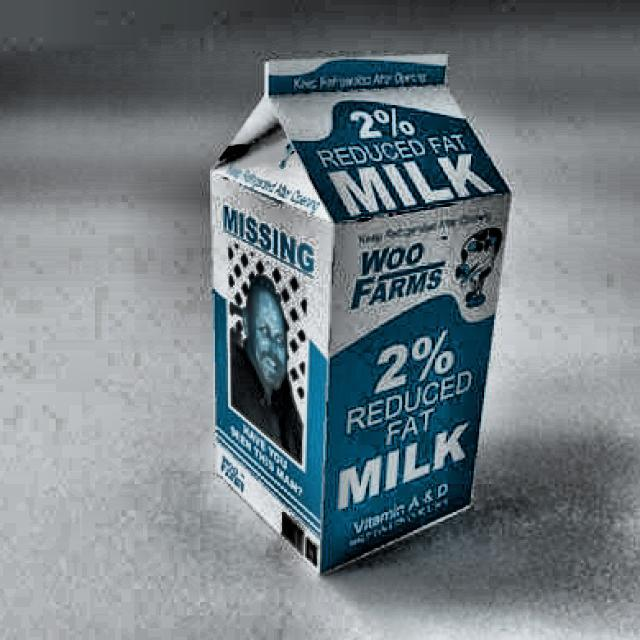cardboard: (207, 52, 512, 574)
